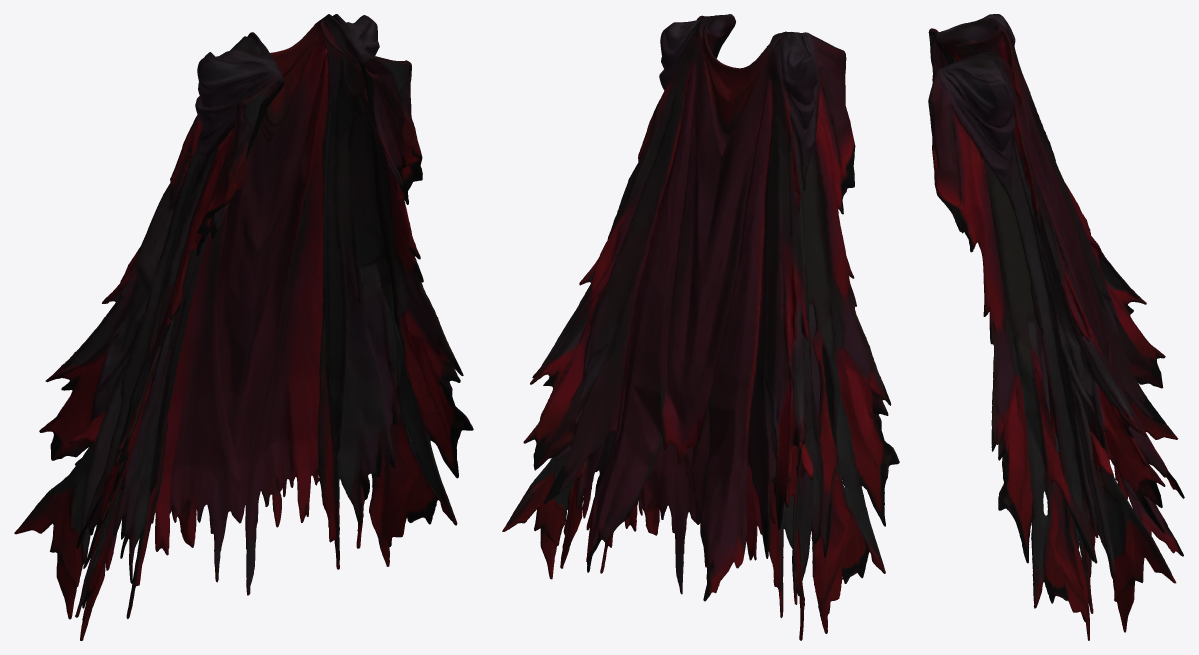
The model's file is cape_v1_s7.glb.
3 views of the same model, side by side, from view 1: azimuth 30°, elevation 25°; view 2: azimuth 150°, elevation 25°; view 3: azimuth 270°, elevation 25° (orthographic). The views are drawn at different scales.
Bounding box in the file's own units: 0.6217 × 0.9664 × 0.4152.
Materials: 1 (1 with a texture image).
